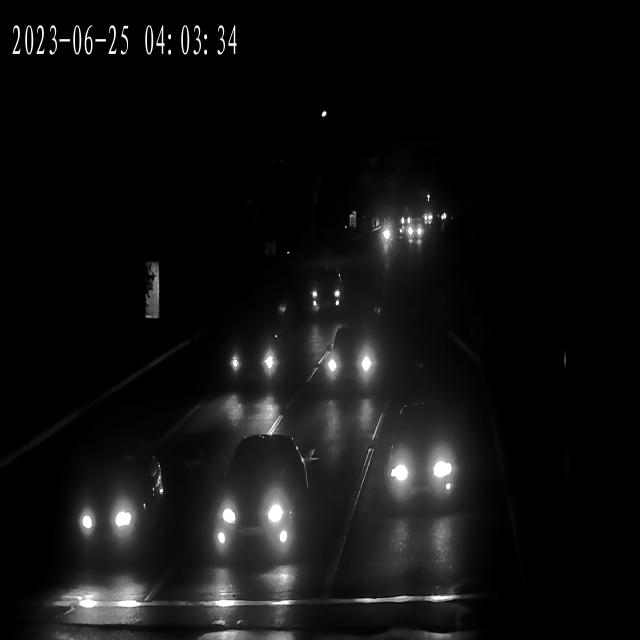Car: (205, 438, 309, 558), (64, 442, 165, 559), (368, 414, 463, 515), (320, 331, 385, 393), (221, 327, 286, 385), (308, 274, 345, 316), (374, 221, 396, 240), (403, 227, 426, 244), (378, 223, 400, 240), (378, 226, 399, 243), (420, 211, 434, 225)
